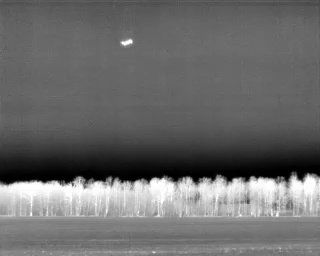DRONE: (117, 34, 138, 50)
